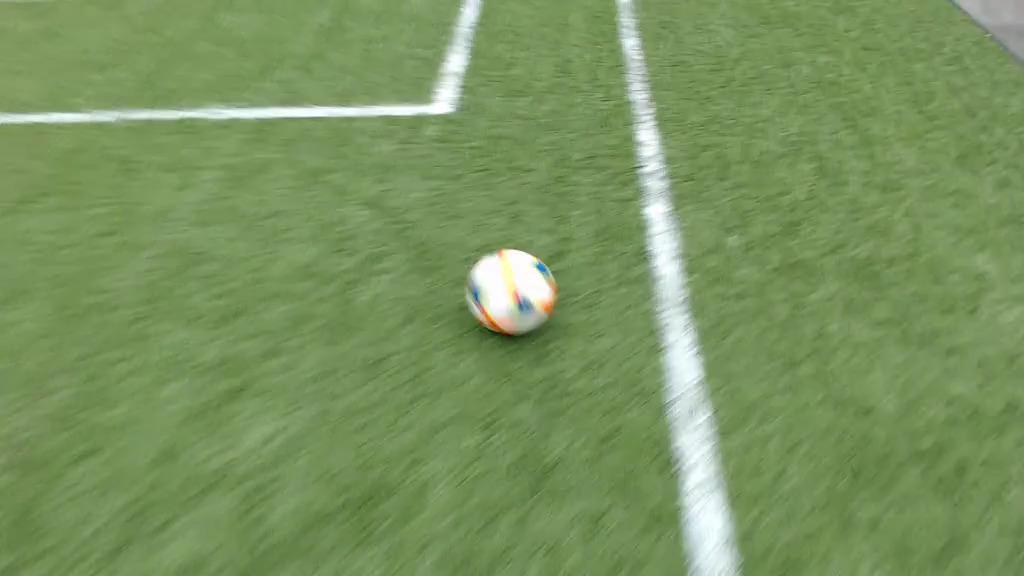ball: (467, 248, 555, 333)
